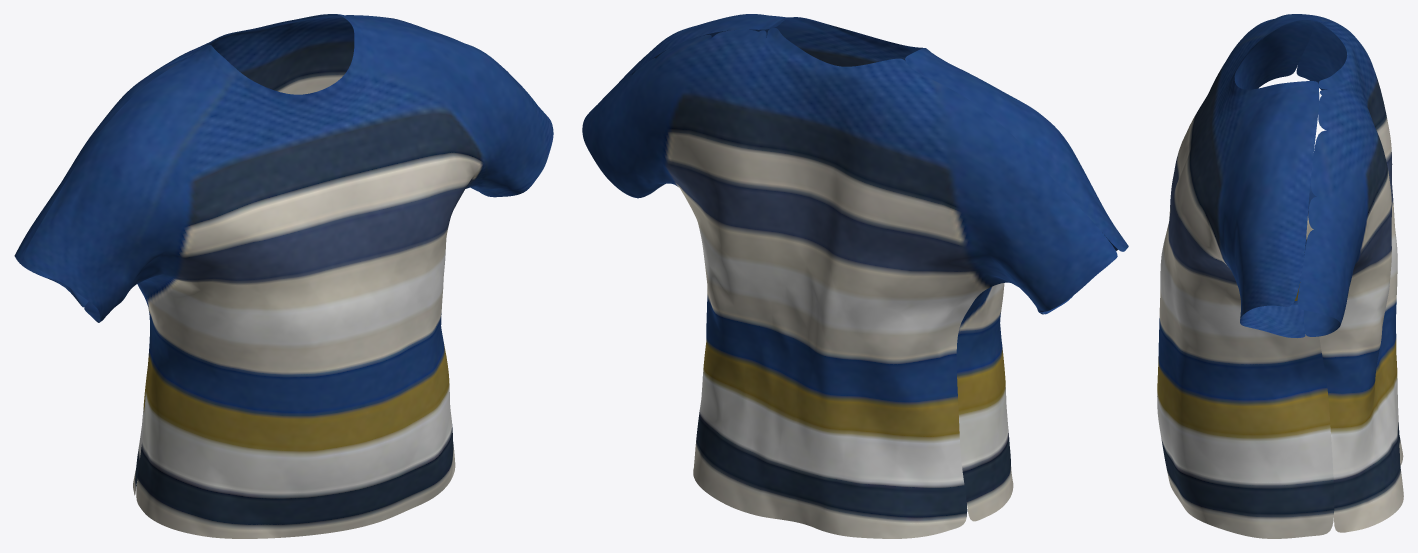
Rendered from TS_SMM.dae.
3 renders of one model, left to right at view 1: azimuth 30°, elevation 25°; view 2: azimuth 150°, elevation 25°; view 3: azimuth 270°, elevation 25°, orthographic. The views are drawn at different scales.
Parts seen in each view (by area): view 1: tshirt; view 2: tshirt; view 3: tshirt.
Part boxes in pixels (x1,y1,x2,y2): tshirt: (14, 14, 553, 538); tshirt: (582, 14, 1128, 538); tshirt: (1157, 14, 1403, 538).
Bounding box in the file's own units: 6.61 × 5.38 × 2.82.
